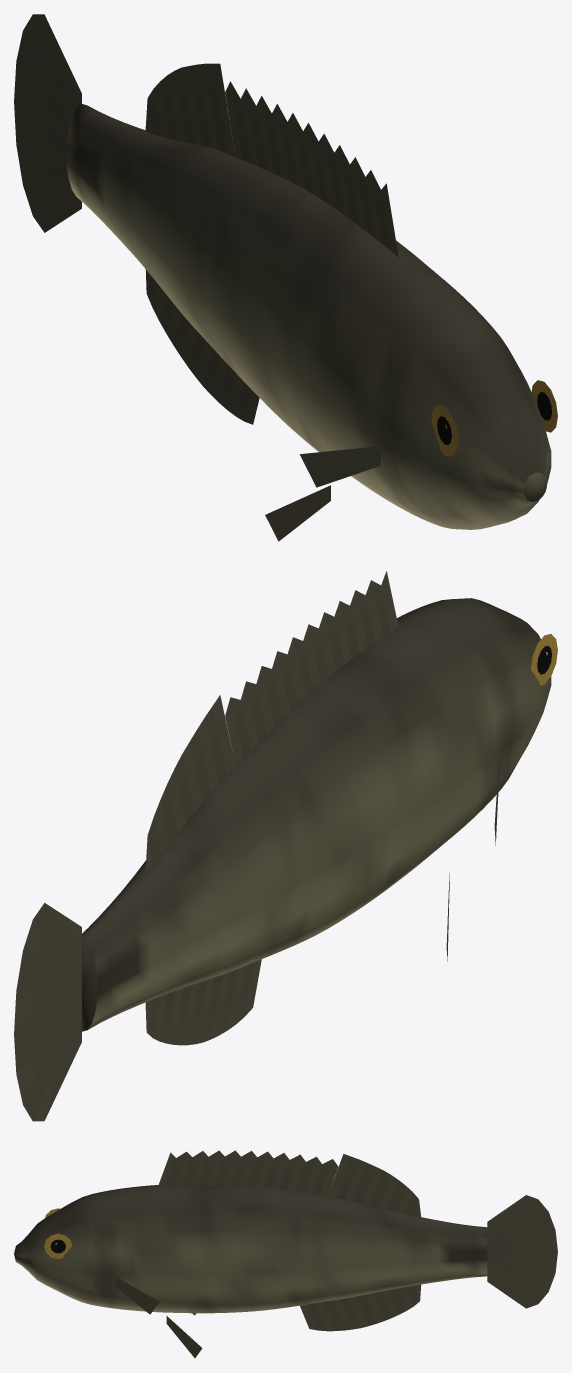
Rendered from puyu.fbx.
3 views of the same model, one above another, from view 1: azimuth 30°, elevation 25°; view 2: azimuth 150°, elevation 25°; view 3: azimuth 270°, elevation 25° (orthographic). The views are drawn at different scales.
Visible parts, largest first — view 1: puyu; view 2: puyu; view 3: puyu.
Part boxes in pixels (x1,y1,x2,y2): puyu: [14, 14, 557, 541]; puyu: [14, 571, 557, 1121]; puyu: [14, 1150, 557, 1357].
Bounding box in the file's own units: 0.2483 × 0.4373 × 1.15.
